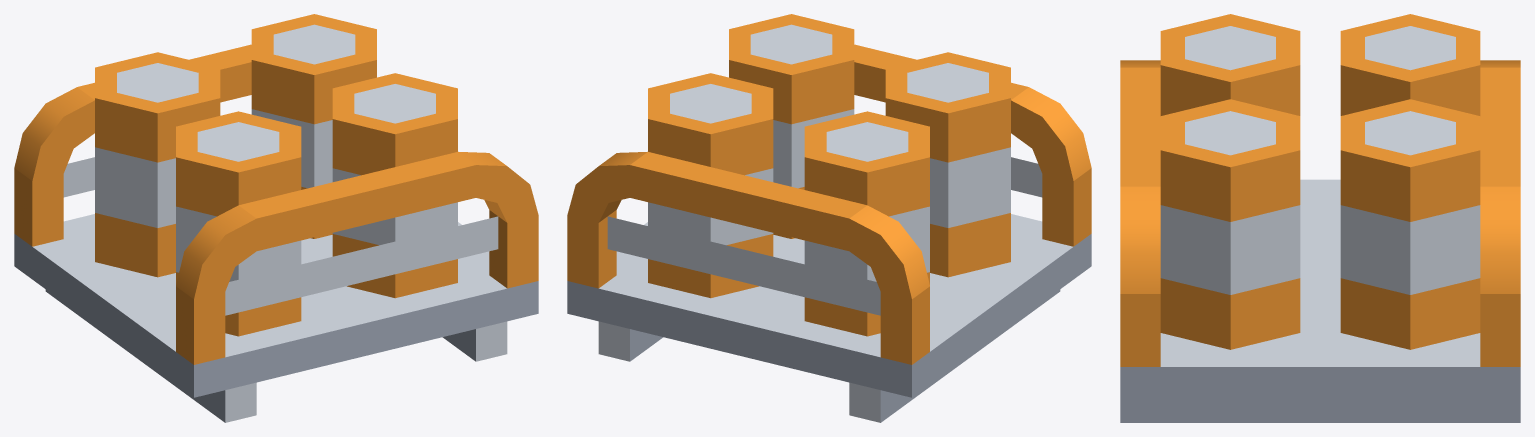
File: barrels_rail.glb
3 renders of one model, left to right at view 1: azimuth 30°, elevation 25°; view 2: azimuth 150°, elevation 25°; view 3: azimuth 270°, elevation 25°, orthographic. The views are drawn at different scales.
Parts seen in each view (by area): view 1: barrels_rail, barrel (×4); view 2: barrels_rail, barrel (×4); view 3: barrel (×4), barrels_rail.
Boxes of the visible parts, x1,y1,x2,y2 form: barrels_rail: (14, 44, 538, 422); barrel (×4): (95, 14, 457, 336); barrels_rail: (567, 44, 1091, 422); barrel (×4): (648, 14, 1010, 336); barrel (×4): (1160, 14, 1480, 349); barrels_rail: (1120, 60, 1520, 422).
Size of the model in its own units: 0.55 by 0.35 by 0.4964.
